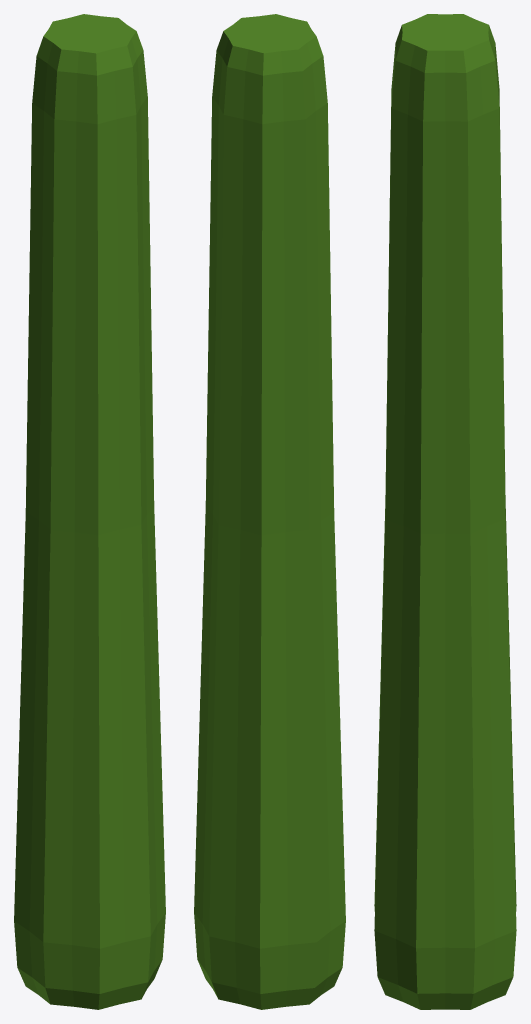
File: Cactus_07_A.fbx
The picture shows the model from 3 angles, left to right: view 1: azimuth 30°, elevation 25°; view 2: azimuth 150°, elevation 25°; view 3: azimuth 270°, elevation 25°; orthographic projection.
Visible parts, largest first — view 1: Cactus_07_A; view 2: Cactus_07_A; view 3: Cactus_07_A.
Part boxes in pixels (x1=…): Cactus_07_A: x1=14, y1=14, x2=165, y2=1009; Cactus_07_A: x1=194, y1=14, x2=345, y2=1009; Cactus_07_A: x1=374, y1=14, x2=516, y2=1009.
Size of the model in its own units: 33.83 by 250 by 33.83.
